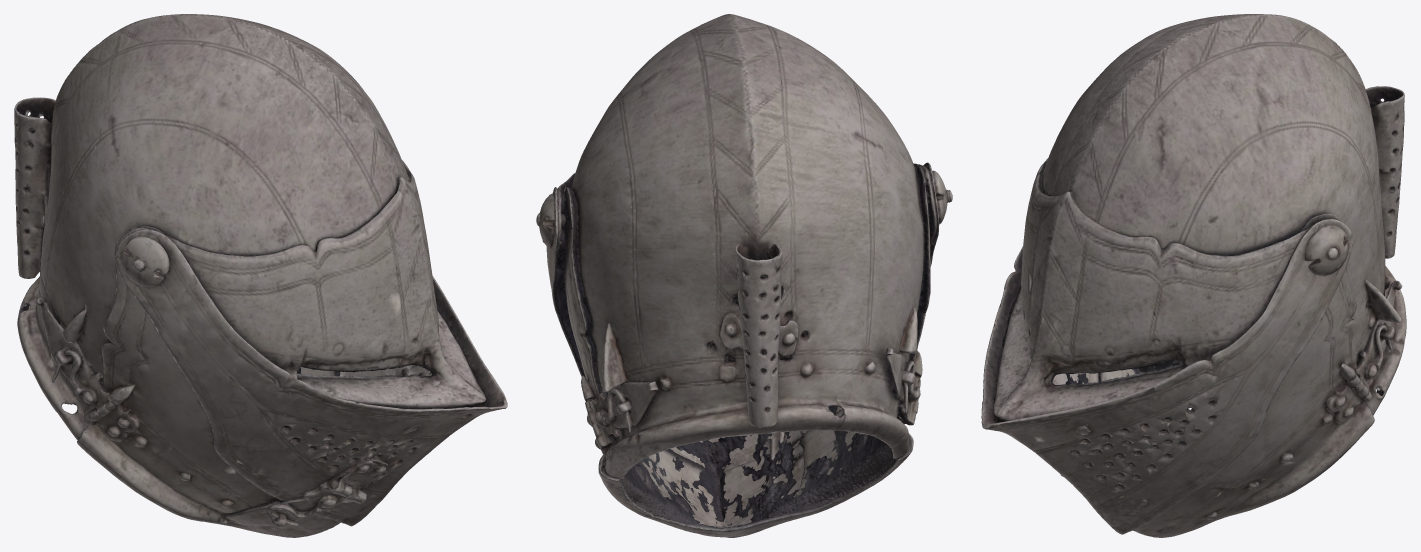
File: knight-cf6755a48863.glb
The picture shows the model from 3 angles, left to right: view 1: azimuth 30°, elevation 25°; view 2: azimuth 150°, elevation 25°; view 3: azimuth 270°, elevation 25°; orthographic projection. The views are drawn at different scales.
Parts seen in each view (by area): view 1: engraved-source-pose; view 2: engraved-source-pose; view 3: engraved-source-pose.
Part boxes in pixels (left/top/right/bottom): engraved-source-pose: left=14, top=14, right=507, bottom=537; engraved-source-pose: left=536, top=14, right=952, bottom=537; engraved-source-pose: left=981, top=14, right=1406, bottom=537.
Size of the model in its own units: 1.81 by 2.5 by 1.95.
Materials: 1 (1 with a texture image).
